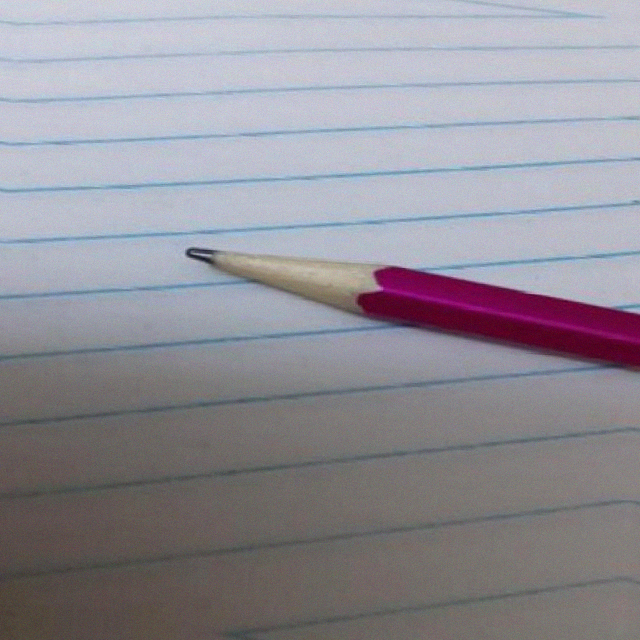pencil: (184, 234, 402, 307)
